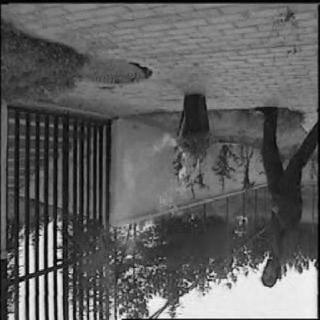Fire: (156, 151, 208, 220)
